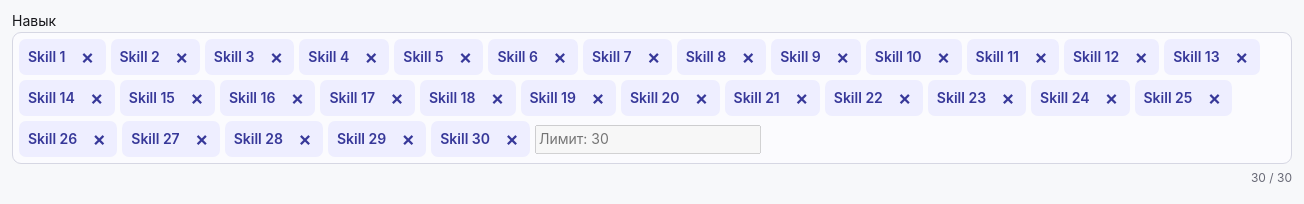
Test case: enforces 30 items and returns focus to the input after removal
Expected: the field labelled "Навык" is disabled, [535,125,761,154]
Expected: the text "30 / 30" is shown, [1251,168,1292,188]
Step 1. Click the button named "Удалить навык Skill 30" → x=512, y=139, box [494,121,530,157]
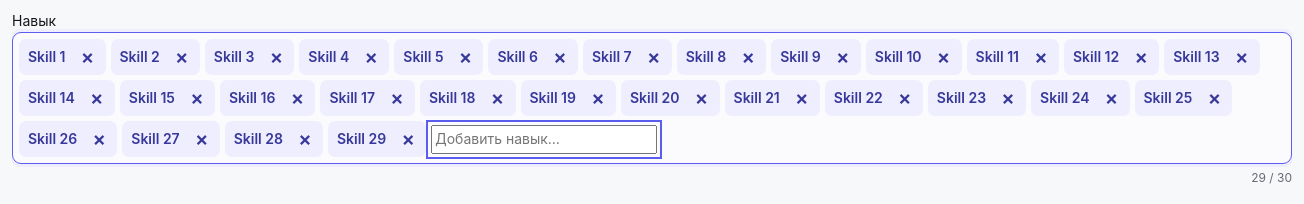
Expected: the field labelled "Навык" is enabled
Step 2. Type "Redis" into the field labelled "Навык" → x=544, y=139, box [431,125,657,154]
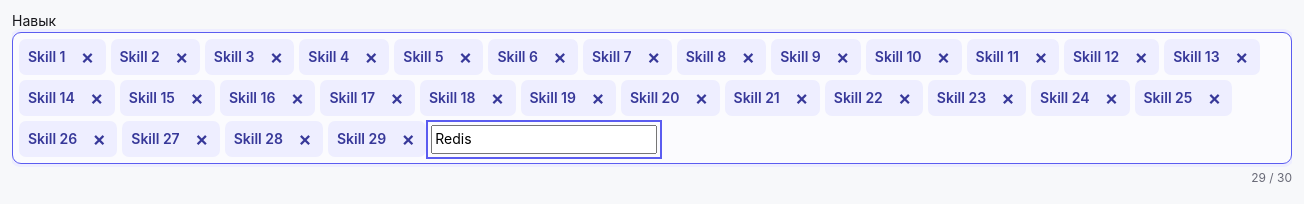
Step 3. Press Enter in the field labelled "Навык", box [431,125,657,154]
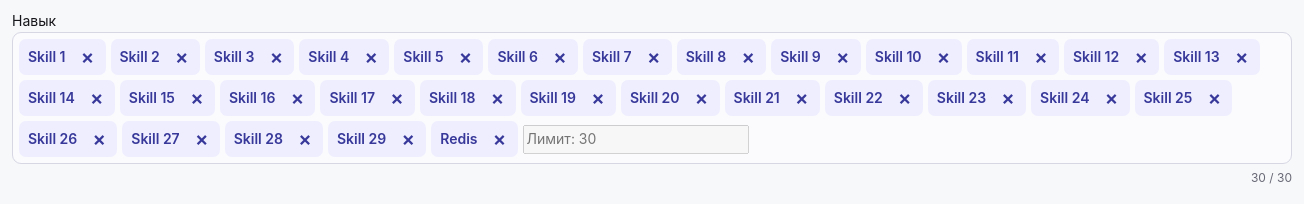
Expected: the field labelled "Навык" is disabled, [523,125,749,154]
Expected: the button named "Удалить навык Redis" is shown, [482,121,518,157]
